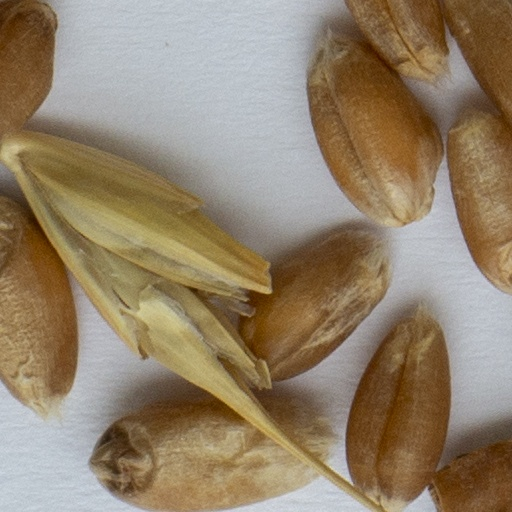Peel-poly: (0, 133, 387, 511), (426, 439, 511, 511)
Wheat-grain-poly: (0, 0, 58, 140)
